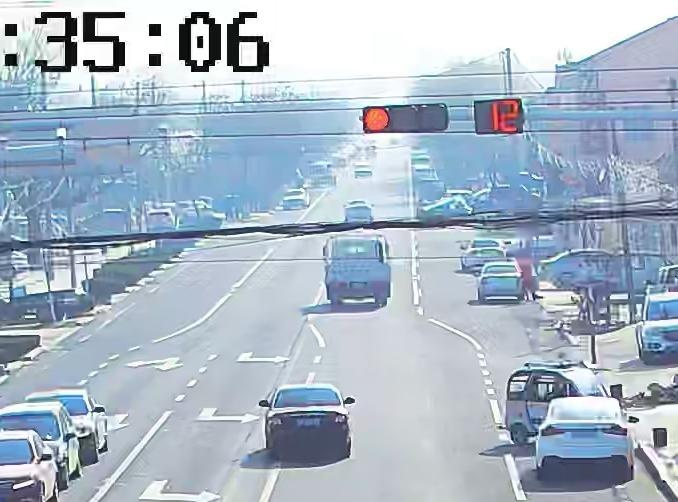red: (362, 107, 392, 134)
redtime: (489, 99, 523, 133)
